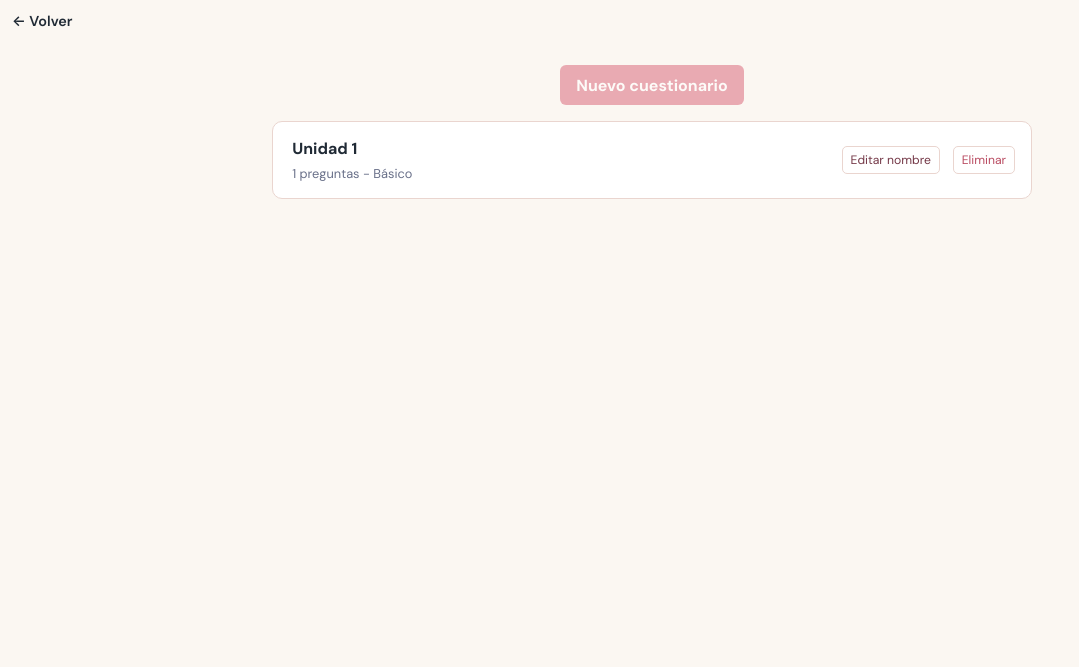
Test: QuizPage › persiste cada respuesta con su identificador de intento
Click the button "Unidad 1 1 preguntas - Básico" at point(325, 149), box [289, 135, 829, 185]
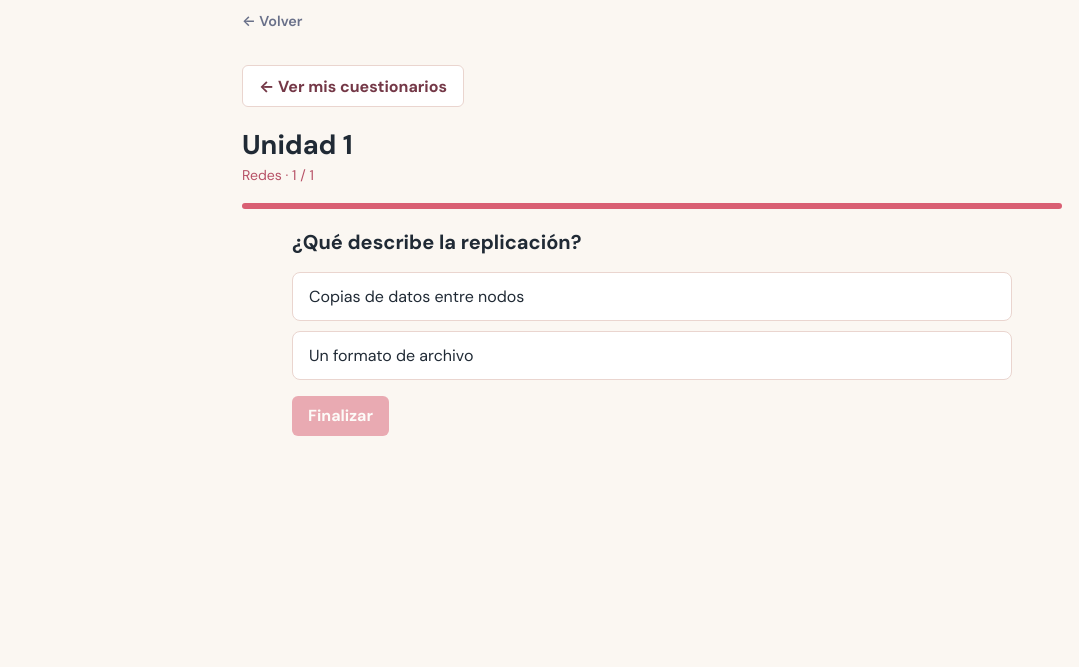
Click the button "Copias de datos entre nodos" at point(417, 296), box [292, 272, 1012, 320]
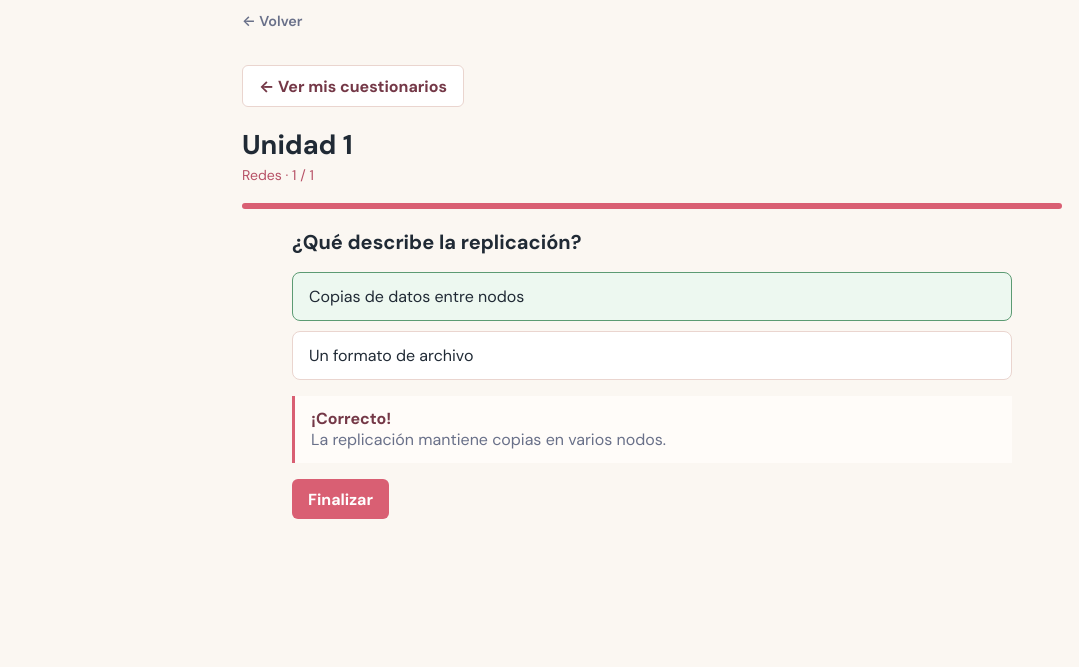
Result: the text "¡Correcto!" is shown at [311, 408, 391, 429]
Click the button "Finalizar" at point(340, 499), box [292, 479, 389, 519]
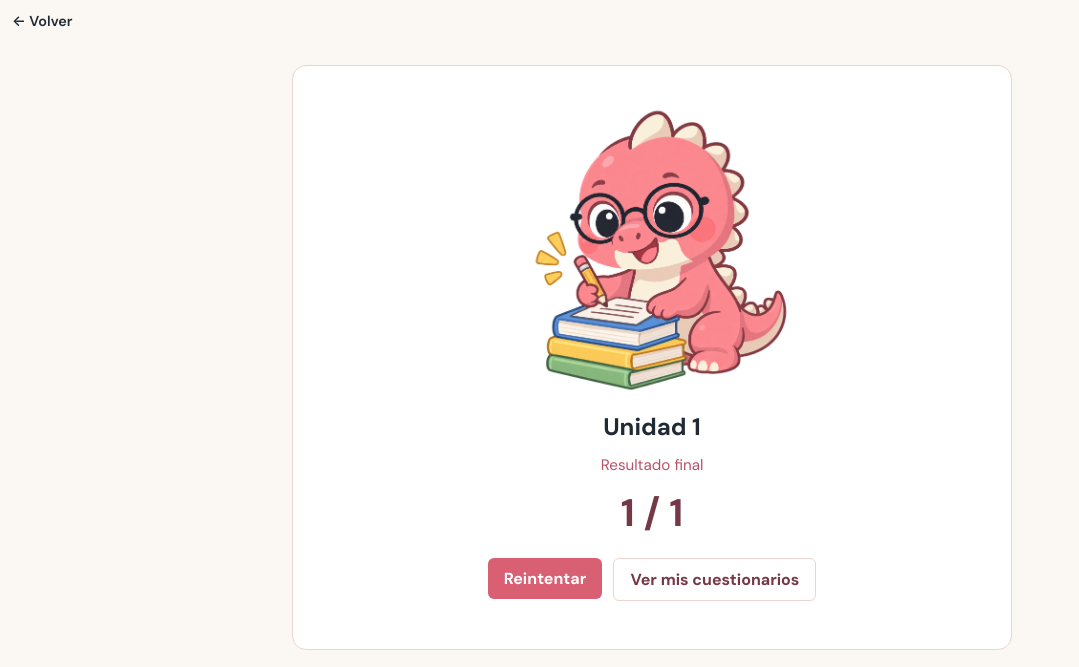
Result: the text "Resultado final" is shown at [601, 455, 703, 475]
